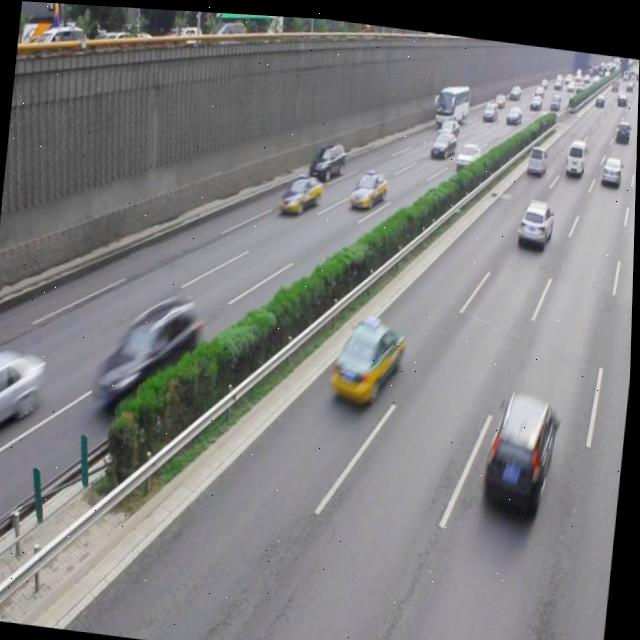car: (92, 286, 204, 414), (480, 381, 558, 514), (329, 308, 407, 404), (0, 345, 45, 437), (277, 166, 323, 214), (516, 192, 555, 245), (308, 134, 347, 178), (349, 164, 388, 206)
